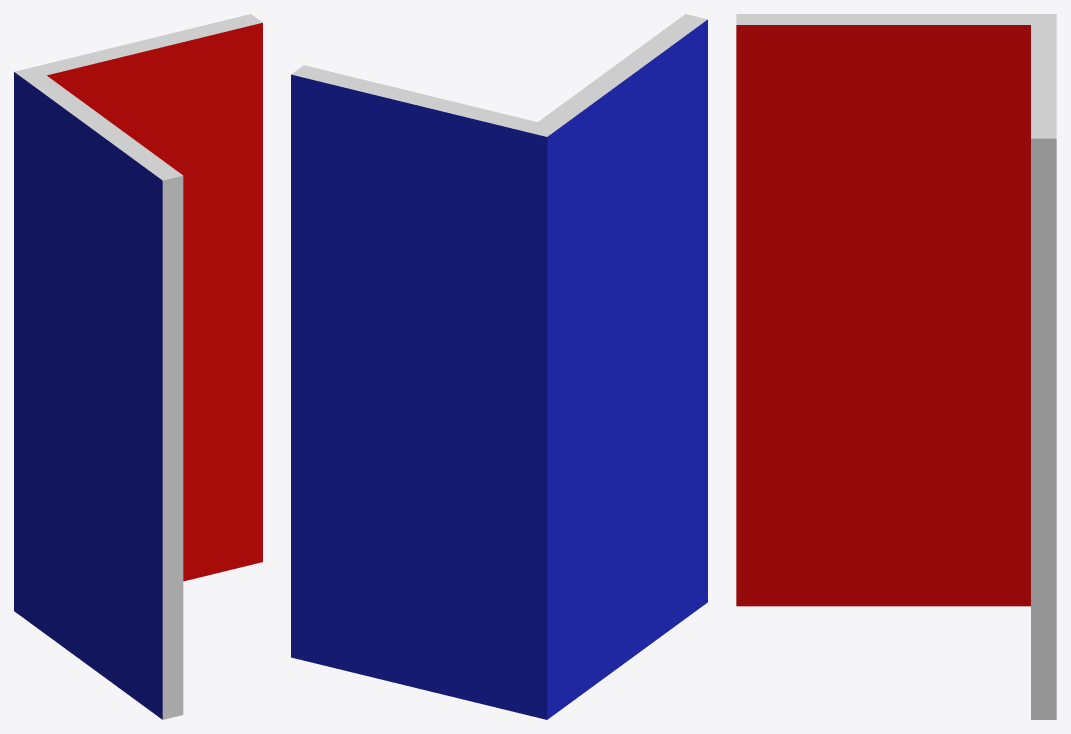
Rendered from Mesh_wall_corner_corridor_Final.fbx.
The picture shows the model from 3 angles, left to right: view 1: azimuth 30°, elevation 25°; view 2: azimuth 150°, elevation 25°; view 3: azimuth 270°, elevation 25°; orthographic projection. The views are drawn at different scales.
Parts seen in each view (by area): view 1: mesh_wall_corner; view 2: mesh_wall_corner; view 3: mesh_wall_corner.
Part boxes in pixels (box(x1,y1,x2,y2)): mesh_wall_corner: box(14, 14, 262, 719); mesh_wall_corner: box(291, 14, 707, 719); mesh_wall_corner: box(736, 14, 1056, 719).
Bounding box in the file's own units: 460 × 1000 × 500.
